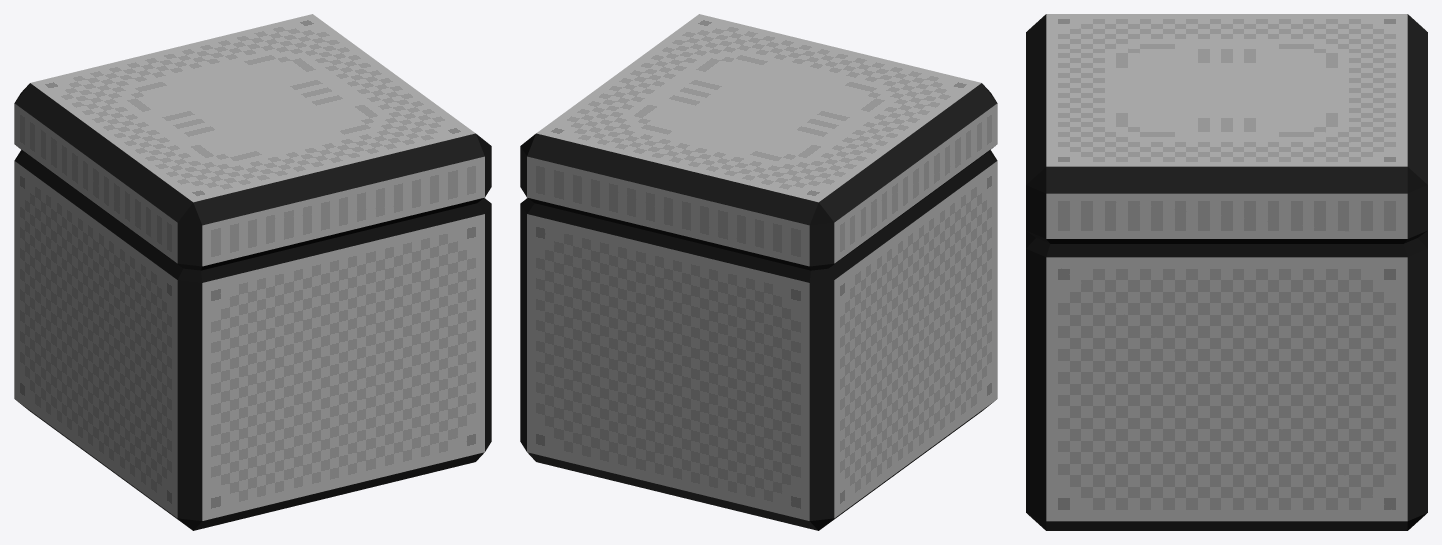
Rendered from crates.fbx.
3 renders of one model, left to right at view 1: azimuth 30°, elevation 25°; view 2: azimuth 150°, elevation 25°; view 3: azimuth 270°, elevation 25°, orthographic. The views are drawn at different scales.
Visible parts, largest first — view 1: crate2; view 2: crate2; view 3: crate2.
Part boxes in pixels (box(x1,y1,x2,y2)): crate2: box(14, 14, 491, 530); crate2: box(520, 14, 997, 530); crate2: box(1026, 14, 1427, 530).
Bounding box in the file's own units: 100 × 100 × 100.
